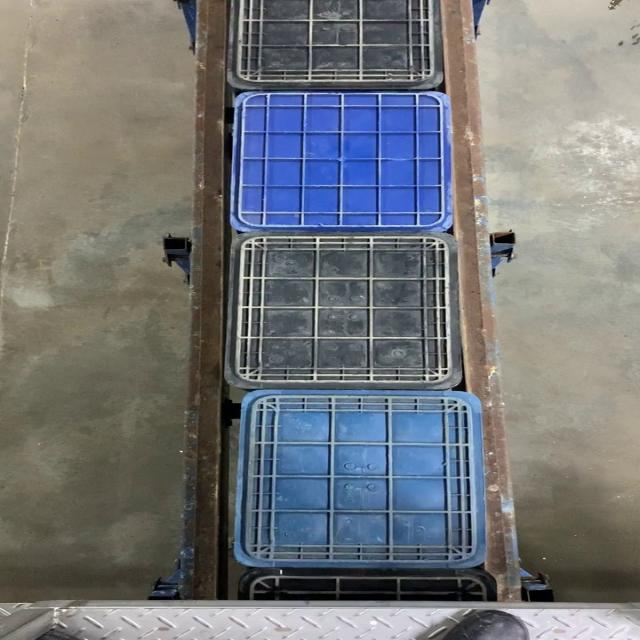Box: (234, 387, 484, 570), (224, 231, 463, 387), (226, 90, 458, 230)
